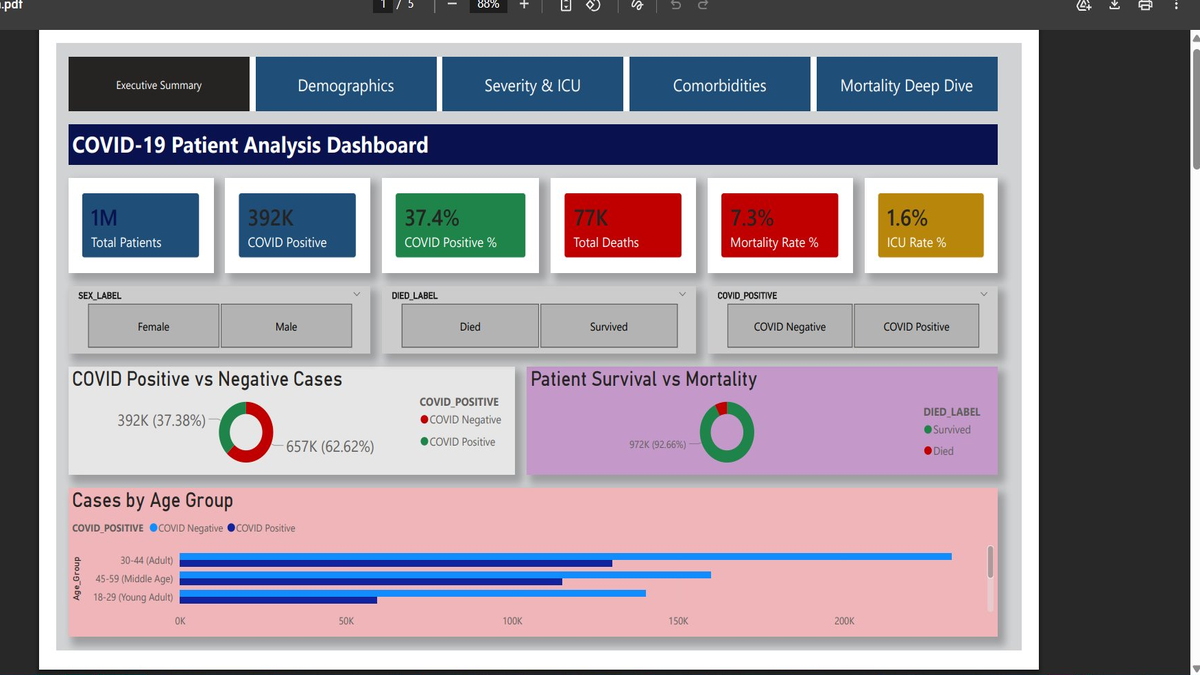

What the dashboard file says about the page in this screenshot:
{"tool":"powerbi","page":{"name":"Executive Summary","canvas":[1280,720],"ordinal":0},"visuals":[{"type":"textbox","box":[16,96,1232,48],"z":0},{"type":"cardVisual","fields":{"Data":["_Measures.Total Patients"]},"box":[16,160,192,112],"z":1000},{"type":"cardVisual","fields":{"Data":["_Measures.COVID Positive"]},"box":[224,160,192,112],"z":2000},{"type":"cardVisual","fields":{"Data":["_Measures.COVID Positive %"]},"box":[432,160,208,112],"z":3000},{"type":"cardVisual","fields":{"Data":["_Measures.ICU Rate %"]},"box":[1072,160,176,112],"z":4000},{"type":"cardVisual","fields":{"Data":["_Measures.Mortality Rate %"]},"box":[864,160,192,112],"z":5000},{"type":"cardVisual","fields":{"Data":["_Measures.Total Deaths"]},"box":[656,160,192,112],"z":6000},{"type":"donutChart","title":"COVID Positive vs Negative Cases","fields":{"Y":["_Measures.Total Patients"],"Category":["Covid Data.COVID_POSITIVE"]},"box":[16,384,592,128],"z":7000},{"type":"donutChart","title":"Patient Survival vs Mortality","fields":{"Category":["Covid Data.DIED_LABEL"],"Y":["_Measures.Total Patients"]},"box":[624,384,624,128],"z":8000},{"type":"clusteredBarChart","title":"Cases by Age Group","fields":{"Category":["Covid Data.Age_Group"],"Y":["_Measures.Total Patients"],"Series":["Covid Data.COVID_POSITIVE"]},"box":[16,528,1232,176],"z":9000},{"type":"slicer","fields":{"Values":["Covid Data.SEX_LABEL"]},"box":[16,288,400,80],"z":10000},{"type":"slicer","fields":{"Values":["Covid Data.DIED_LABEL"]},"box":[432,288,416,80],"z":11000},{"type":"slicer","fields":{"Values":["Covid Data.COVID_POSITIVE"]},"box":[864,288,384,80],"z":12000},{"type":"pageNavigator","box":[16,16,1232,64],"z":13000}]}

Visuals, with their boxes on the page's 1280x720 design canvas (x1, y1, x2, y2). These are canvas units, not pixel positions in the 1200x675 screenshot, which may show the page scaled, cropped or inside an application window:
textbox: (16, 96, 1248, 144)
cardVisual - _Measures.Total Patients: (16, 160, 208, 272)
cardVisual - _Measures.COVID Positive: (224, 160, 416, 272)
cardVisual - _Measures.COVID Positive %: (432, 160, 640, 272)
cardVisual - _Measures.ICU Rate %: (1072, 160, 1248, 272)
cardVisual - _Measures.Mortality Rate %: (864, 160, 1056, 272)
cardVisual - _Measures.Total Deaths: (656, 160, 848, 272)
"COVID Positive vs Negative Cases" donutChart: (16, 384, 608, 512)
"Patient Survival vs Mortality" donutChart: (624, 384, 1248, 512)
"Cases by Age Group" clusteredBarChart: (16, 528, 1248, 704)
slicer - Covid Data.SEX_LABEL: (16, 288, 416, 368)
slicer - Covid Data.DIED_LABEL: (432, 288, 848, 368)
slicer - Covid Data.COVID_POSITIVE: (864, 288, 1248, 368)
pageNavigator: (16, 16, 1248, 80)
